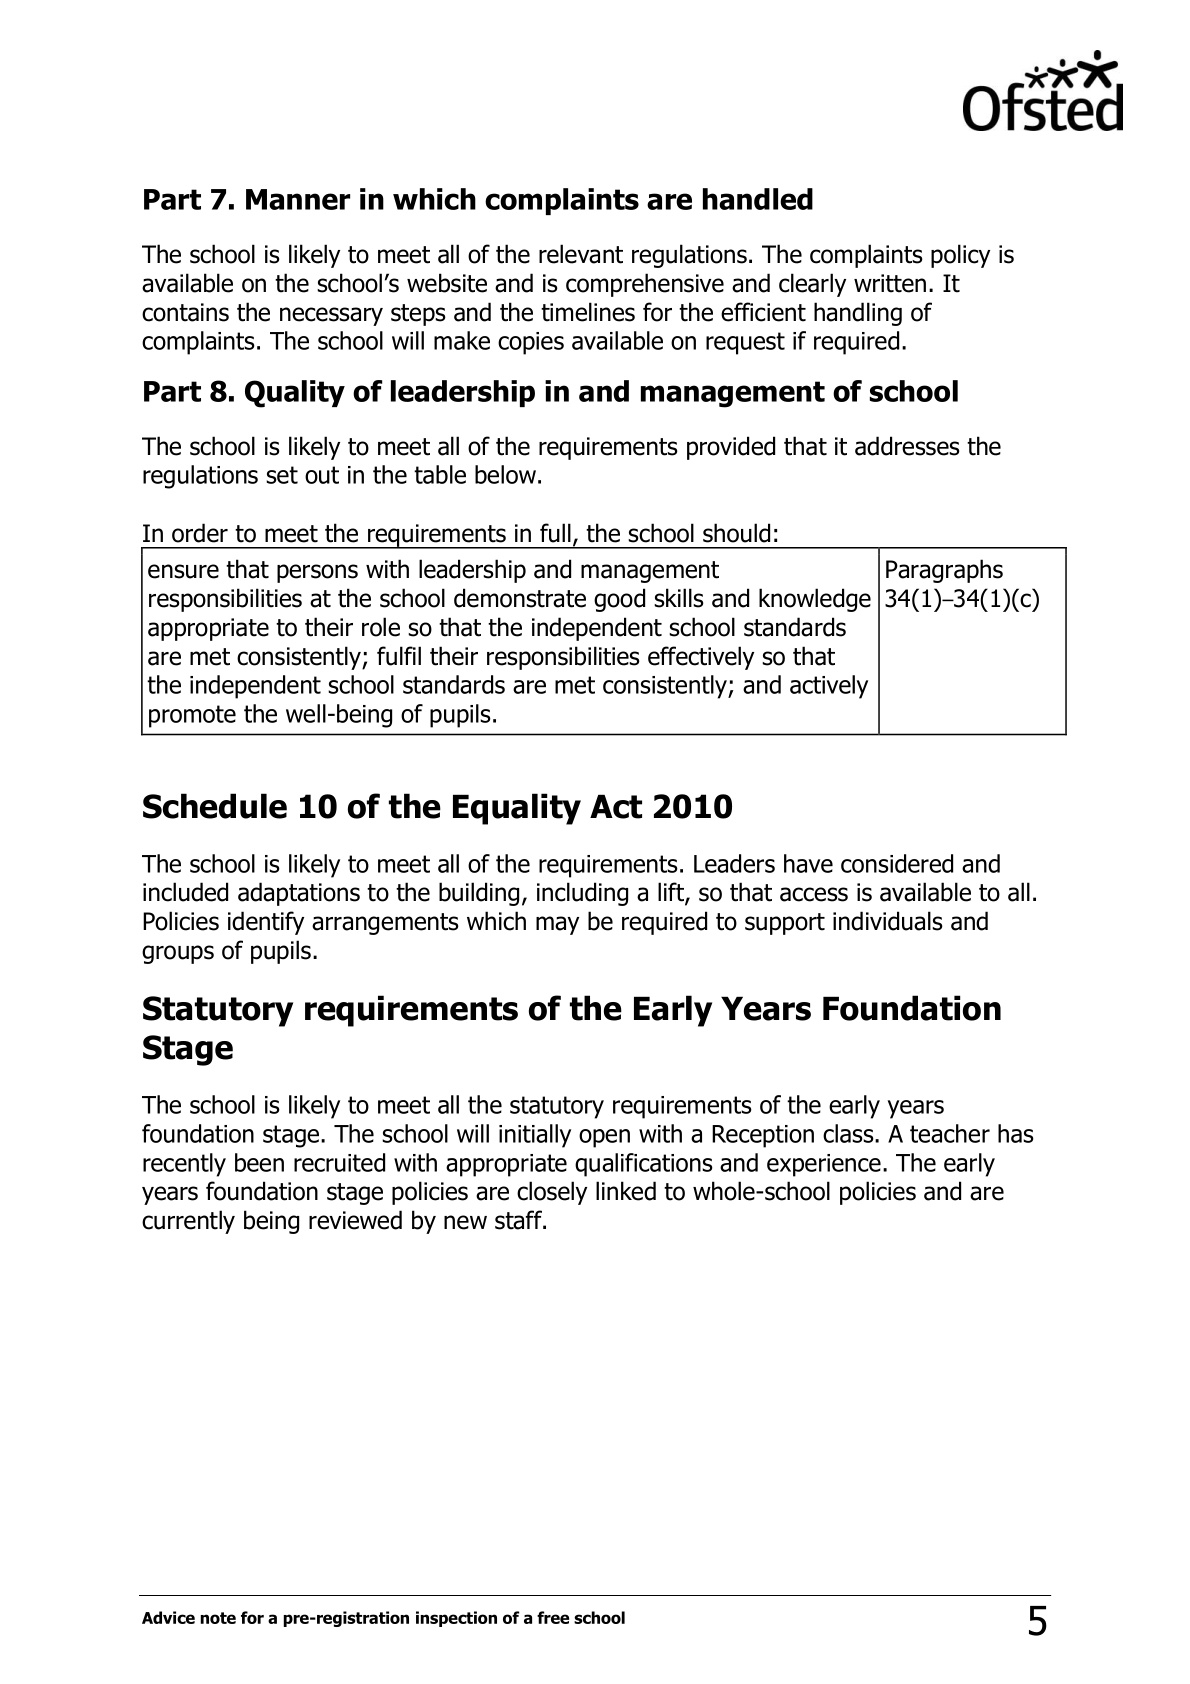full_lined: (140, 545, 1066, 736)
